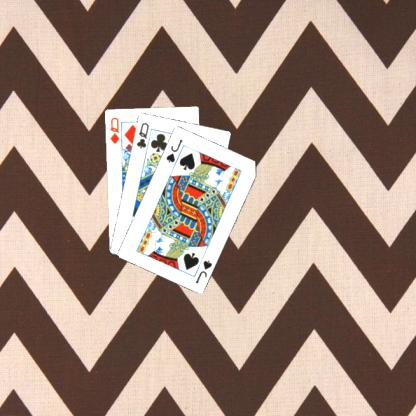JS: (163, 136, 184, 164), (192, 257, 213, 285)
QC: (134, 120, 150, 150)
QD: (107, 115, 121, 145)
